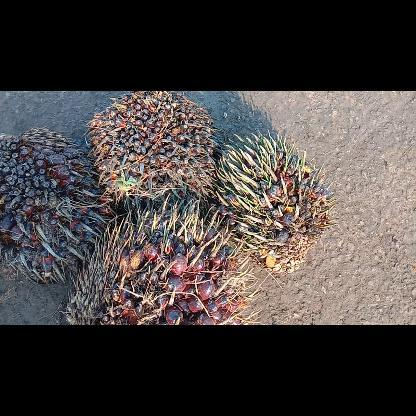TBS abnormal: (204, 126, 340, 278), (0, 124, 118, 288), (82, 91, 220, 219)
TBS masak: (62, 192, 264, 324)
